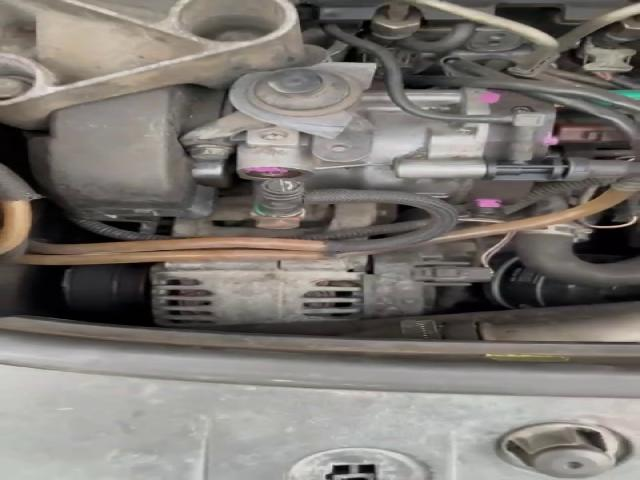alternator: (150, 256, 367, 326)
high_pressure_pump: (236, 88, 565, 214)
